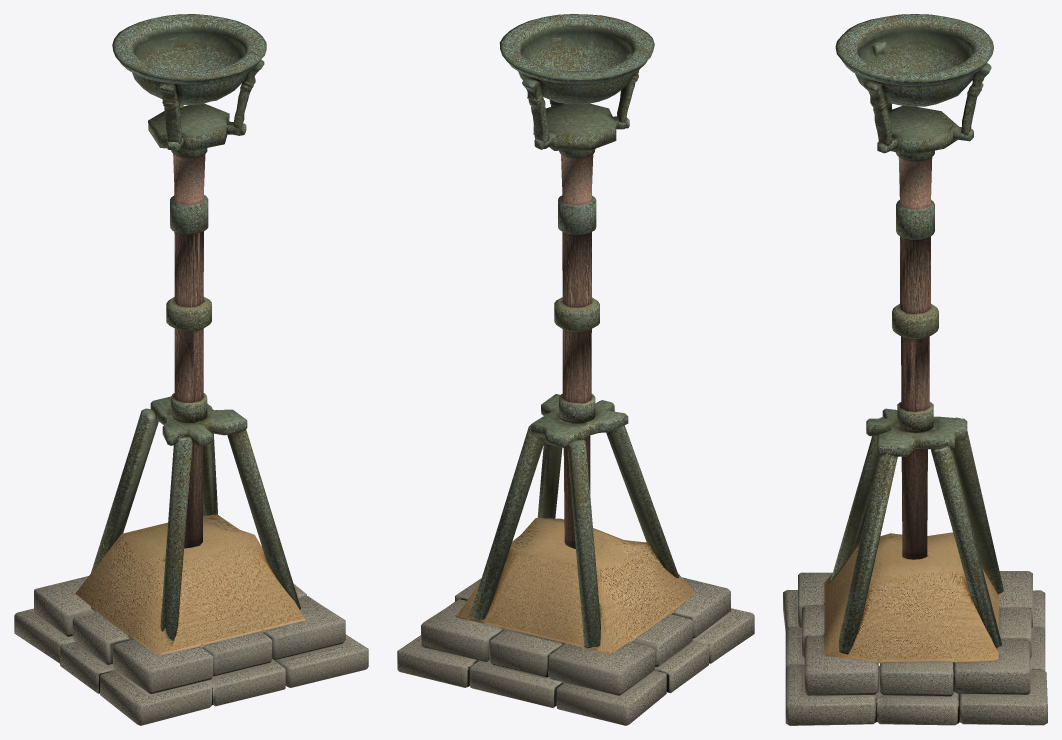
Rendered from tripo_convert_2bf3db92-83a0-4740-880b-839abc9f9e67.fbx.
The picture shows the model from 3 angles, left to right: view 1: azimuth 30°, elevation 25°; view 2: azimuth 150°, elevation 25°; view 3: azimuth 270°, elevation 25°; orthographic projection. The views are drawn at different scales.
Parts seen in each view (by area): view 1: tripo_node_2bf3db92; view 2: tripo_node_2bf3db92; view 3: tripo_node_2bf3db92.
Part boxes in pixels (left/top/right/bottom): tripo_node_2bf3db92: left=14, top=14, right=368, bottom=725; tripo_node_2bf3db92: left=397, top=14, right=754, bottom=725; tripo_node_2bf3db92: left=783, top=14, right=1047, bottom=725.
Bounding box in the file's own units: 0.4004 × 0.998 × 0.3848.
1 material, 1 textured.
